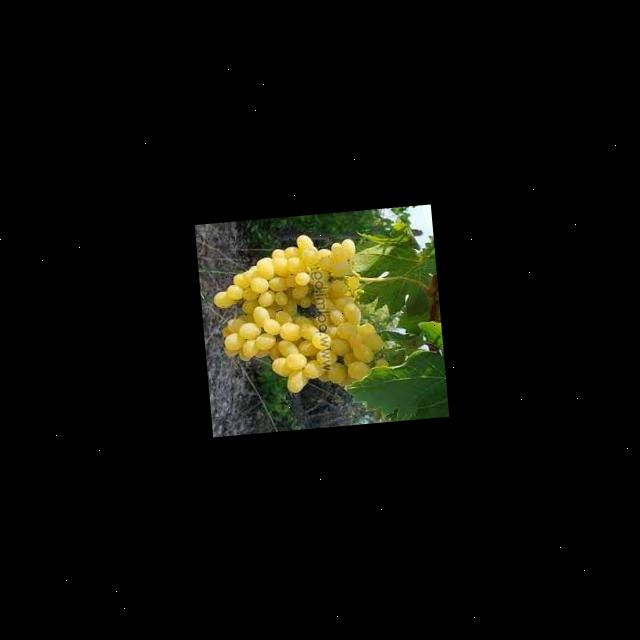grape: (208, 228, 390, 400)
